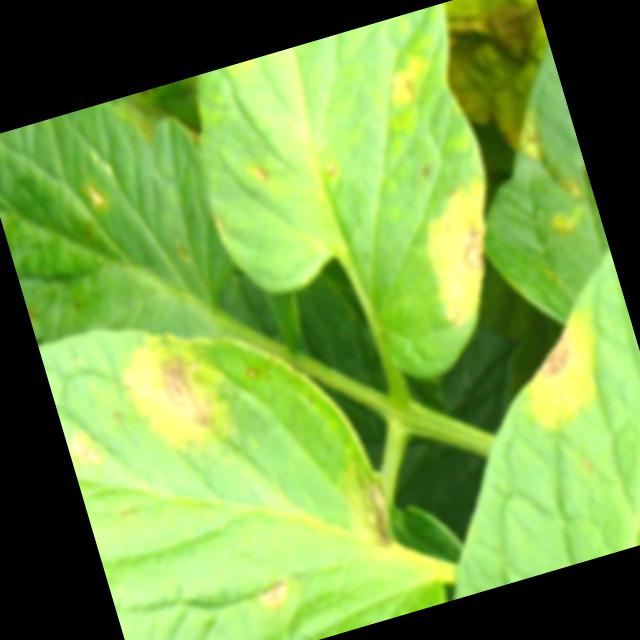Early_blight: (116, 329, 232, 457), (510, 323, 580, 387), (346, 469, 399, 553), (447, 210, 498, 277), (381, 59, 429, 106), (250, 576, 295, 614), (67, 433, 108, 473), (509, 116, 546, 156), (439, 296, 469, 331)
